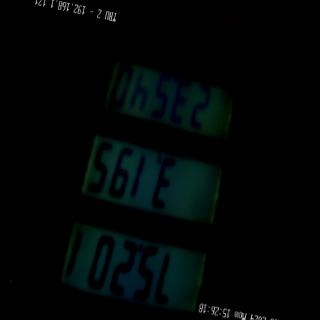screen: (46, 38, 258, 320)
